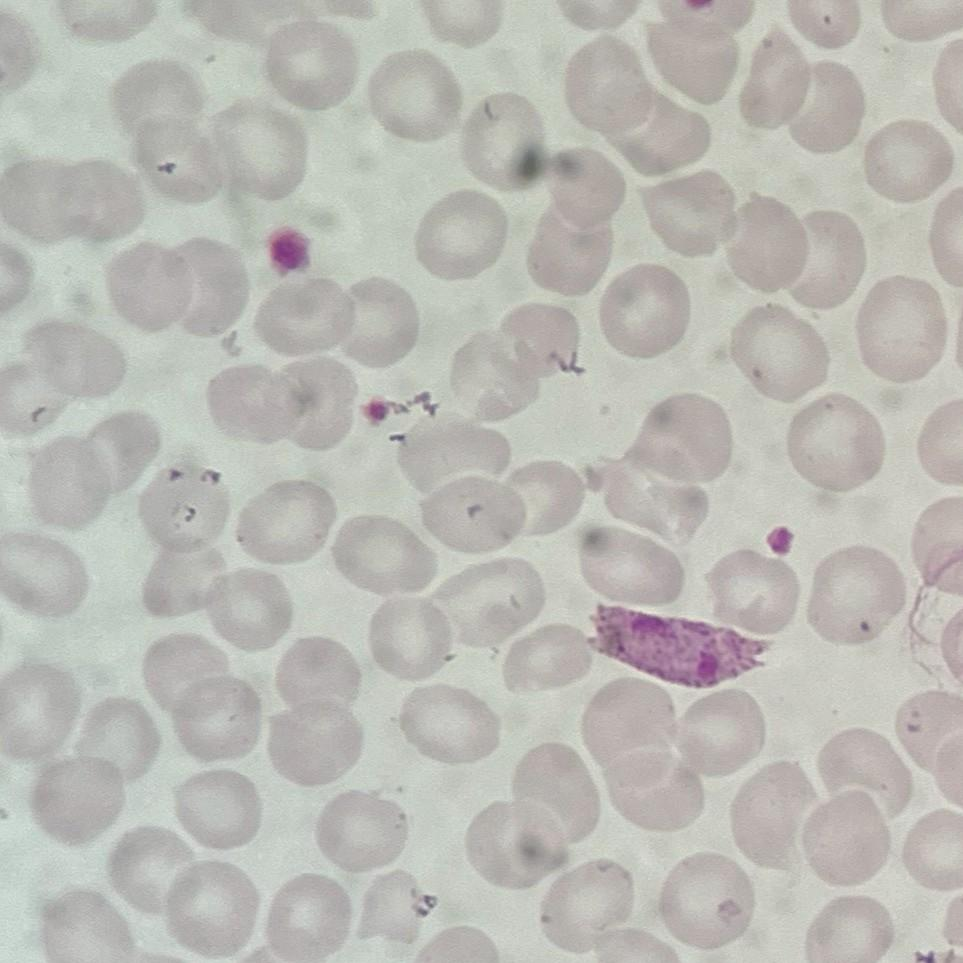Infected: (588, 607, 766, 688)
Uninfected: (2, 156, 142, 249), (618, 392, 733, 489), (428, 557, 544, 652), (10, 317, 128, 409), (209, 100, 309, 200), (805, 546, 906, 645), (463, 797, 571, 889), (162, 858, 262, 956), (855, 274, 946, 381), (598, 743, 706, 832), (729, 304, 828, 401), (727, 760, 815, 869), (786, 395, 885, 491), (506, 740, 599, 842), (232, 479, 341, 566), (596, 463, 707, 548), (535, 857, 635, 951), (561, 37, 654, 137), (26, 438, 123, 533), (402, 413, 510, 498), (796, 787, 892, 882), (657, 854, 752, 950), (458, 91, 552, 188), (815, 725, 912, 818), (251, 273, 357, 358), (264, 696, 366, 784), (137, 460, 233, 553), (721, 194, 810, 294), (417, 475, 526, 556), (165, 673, 263, 763), (105, 241, 200, 333), (644, 16, 740, 107), (642, 170, 739, 260), (262, 20, 359, 110), (329, 512, 435, 594), (611, 94, 712, 180), (596, 263, 689, 356), (127, 111, 222, 202), (447, 327, 543, 417), (30, 756, 127, 845), (365, 49, 460, 139), (579, 675, 676, 763), (396, 683, 498, 766), (533, 144, 627, 234), (413, 190, 507, 280), (704, 548, 799, 637), (206, 363, 305, 448), (524, 206, 614, 299), (675, 687, 768, 776), (582, 527, 685, 607), (167, 235, 251, 333), (783, 211, 866, 310), (313, 788, 409, 872), (859, 118, 953, 203), (0, 533, 88, 623), (0, 664, 82, 760), (70, 695, 159, 782), (200, 566, 292, 650), (171, 767, 263, 851), (783, 61, 866, 154), (141, 630, 234, 712), (365, 595, 455, 679), (261, 876, 351, 959), (38, 887, 136, 963), (336, 277, 419, 366), (111, 56, 206, 133), (108, 824, 192, 911), (141, 544, 232, 621), (272, 634, 363, 710), (282, 357, 355, 451), (741, 31, 811, 127), (501, 622, 595, 693), (503, 460, 584, 539), (496, 301, 580, 377), (84, 411, 159, 494), (892, 690, 959, 780), (355, 869, 433, 945), (803, 896, 893, 960), (1, 365, 72, 436), (899, 809, 961, 889), (914, 395, 963, 488), (911, 493, 963, 580)
